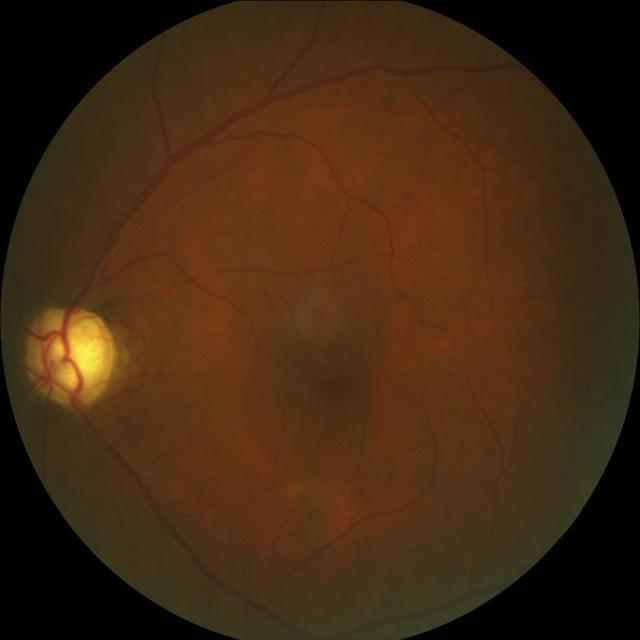OC: (44, 318, 108, 390)
OD: (23, 302, 115, 406)
